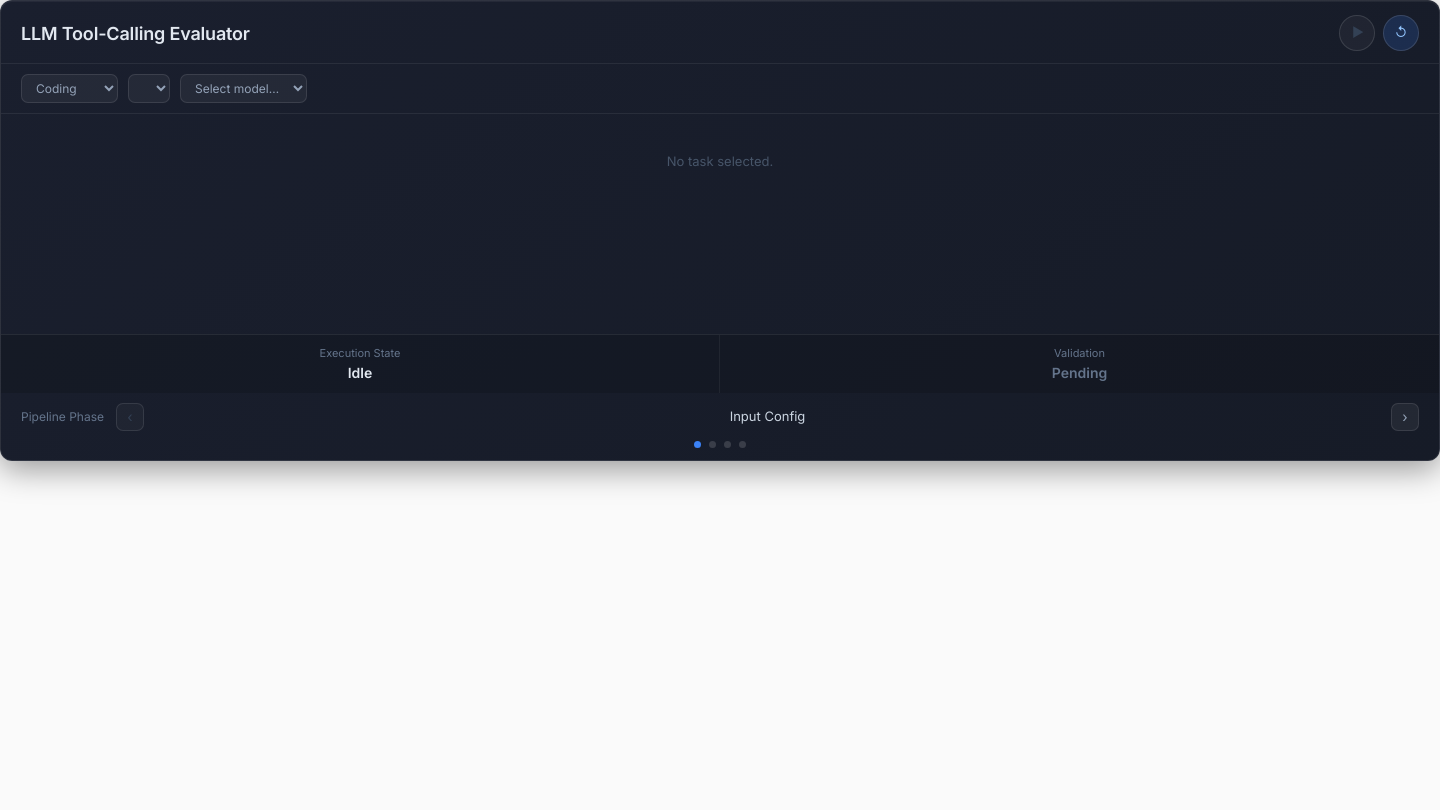
Test case: PipelinePanel › resets the trace
The image size is (1440, 810).
Select "m1" in the dropdown with test id "pipeline-model-select". click: [244, 88]
box: [180,74,307,103]
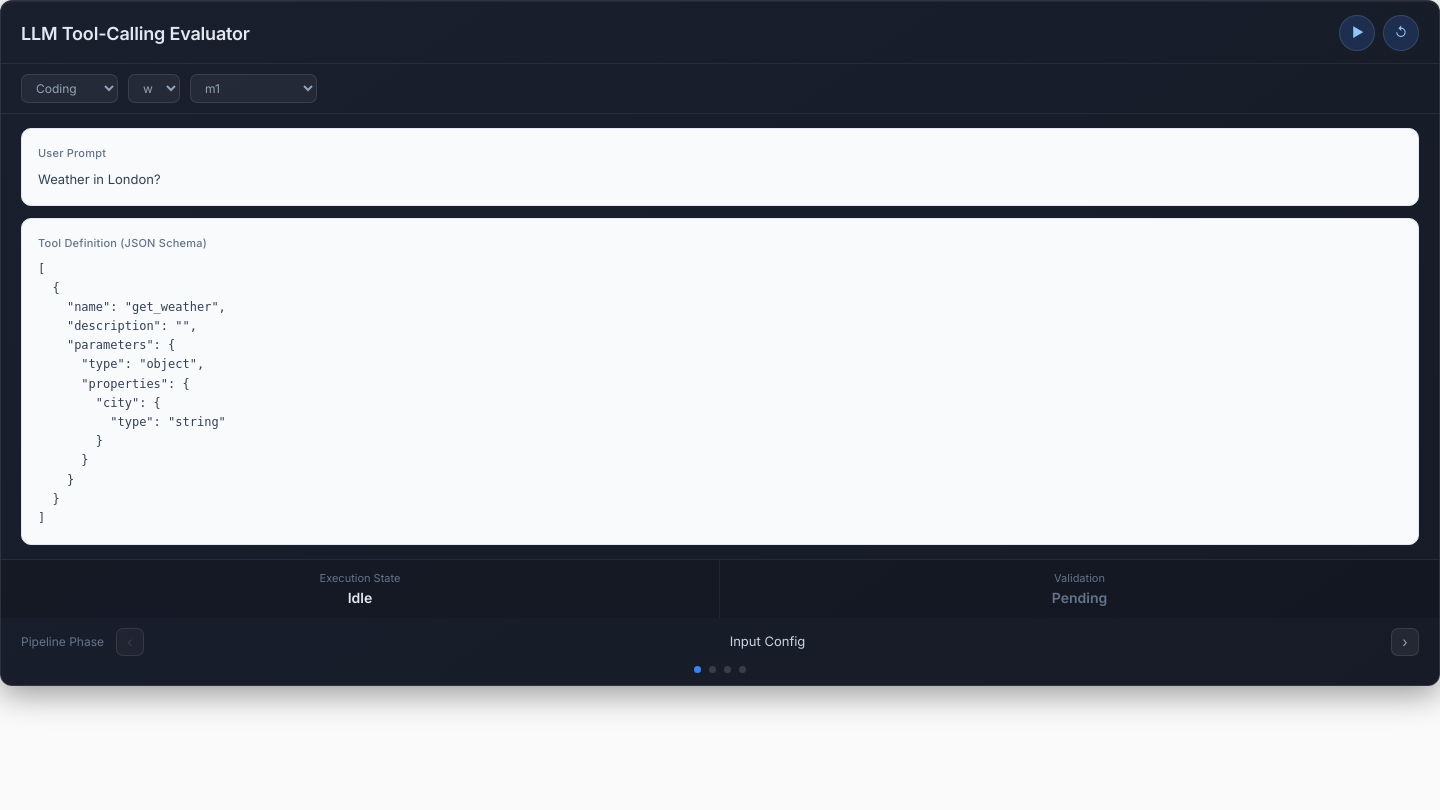
Click the button with test id "pipeline-run". click: [1357, 33]
box: [1339,15,1375,51]
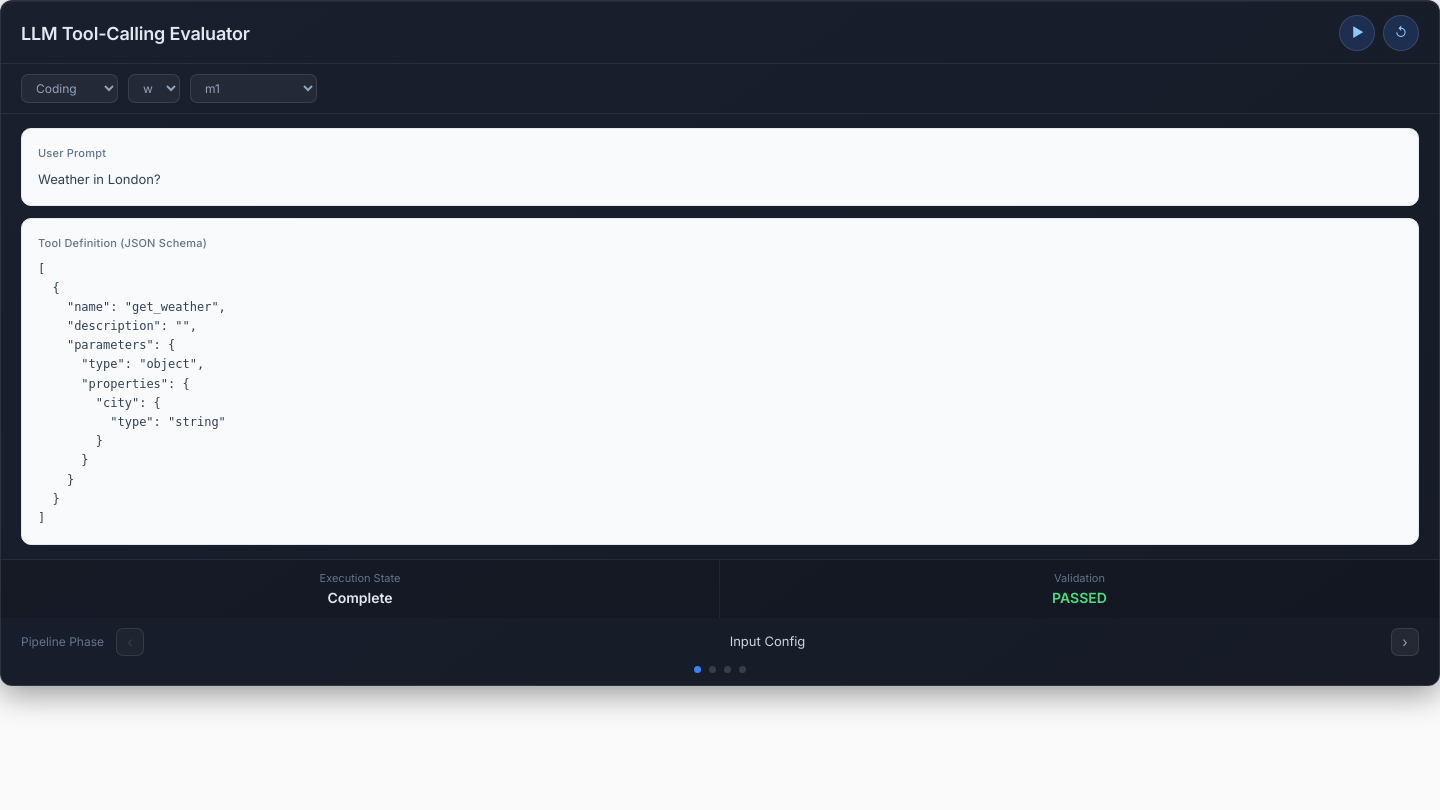
Now the text with test id "pipeline-validation" reads "PASSED", box [1052,589,1107,606]
Click the button with test id "pipeline-reset". click: [1401, 33]
box: [1383,15,1419,51]
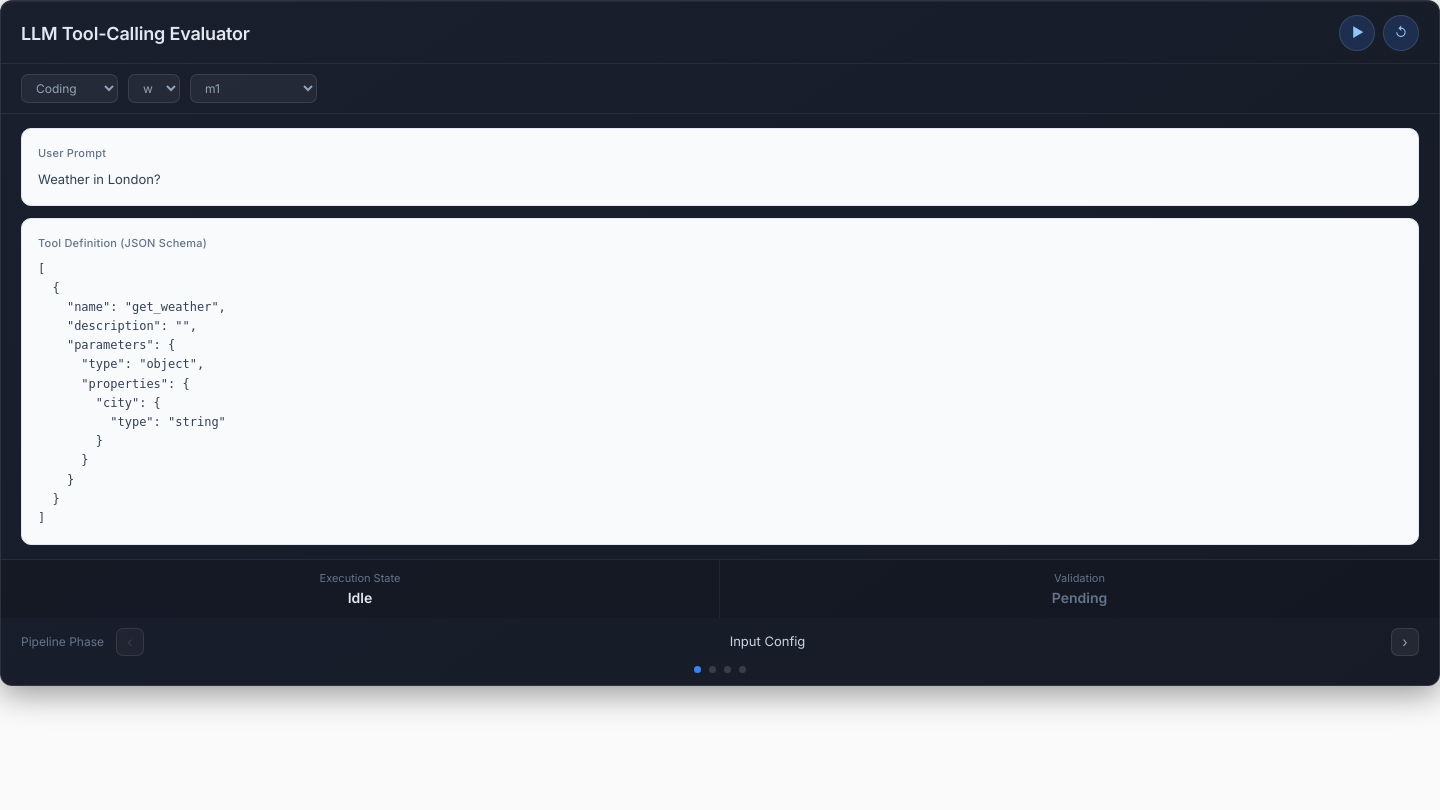
Now the text with test id "pipeline-validation" reads "Pending", box [1052,589,1107,606]
Now the text with test id "pipeline-exec-state" reads "Idle", box [348,589,372,606]
